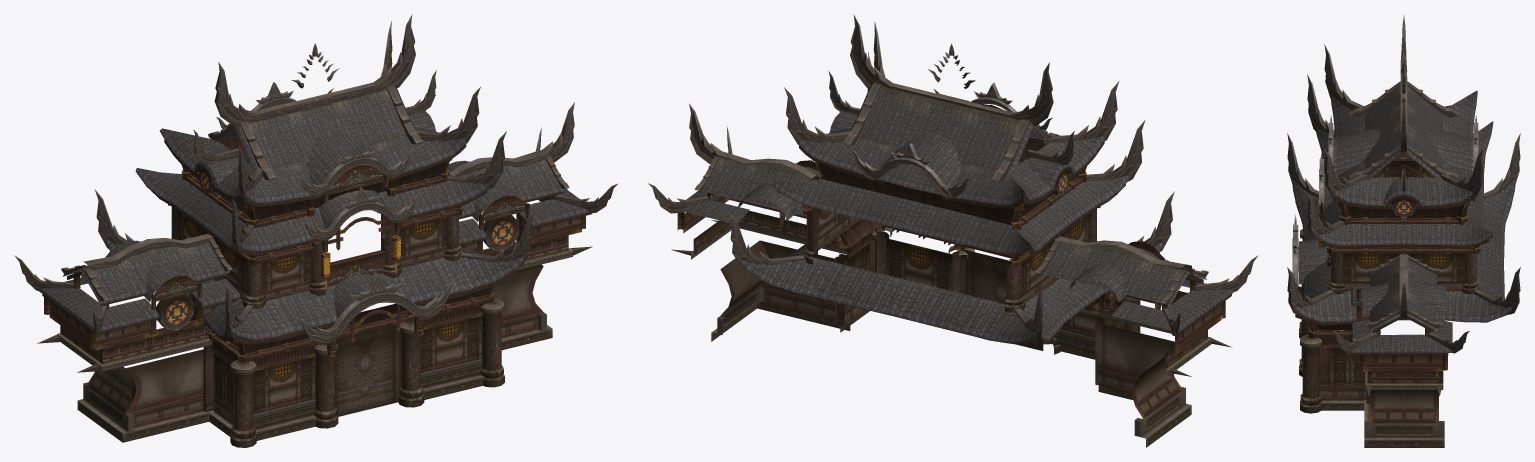
The picture shows the model from 3 angles, left to right: view 1: azimuth 30°, elevation 25°; view 2: azimuth 150°, elevation 25°; view 3: azimuth 270°, elevation 25°; orthographic projection. The views are drawn at different scales.
Visible parts, largest first — view 1: 58004_01; view 2: 58004_01; view 3: 58004_01.
Part boxes in pixels (bbox=[...]): 58004_01: bbox=[14, 14, 618, 447]; 58004_01: bbox=[648, 14, 1258, 447]; 58004_01: bbox=[1287, 15, 1520, 447].
Size of the model in its own units: 3135 by 1909 by 1353.
